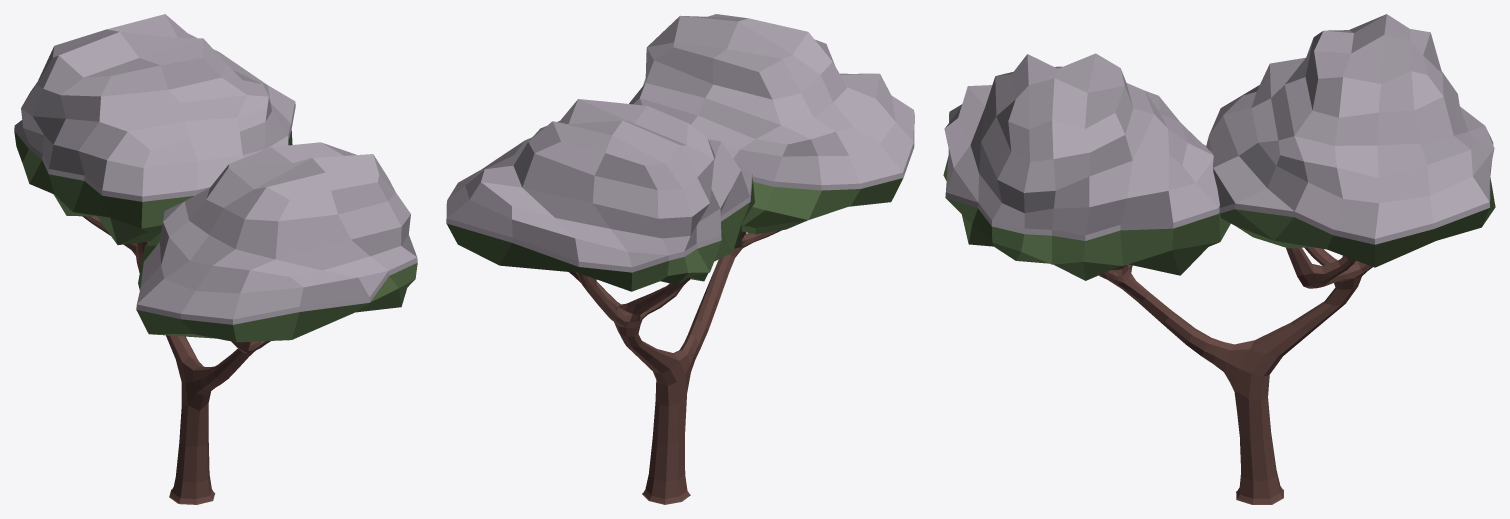
The model's file is CommonTree_Snow_1.gltf.
3 renders of one model, left to right at view 1: azimuth 30°, elevation 25°; view 2: azimuth 150°, elevation 25°; view 3: azimuth 270°, elevation 25°, orthographic. The views are drawn at different scales.
Visible parts, largest first — view 1: CommonTree_Snow_1; view 2: CommonTree_Snow_1; view 3: CommonTree_Snow_1.
Boxes of the visible parts, x1=… form: CommonTree_Snow_1: x1=14, y1=14, x2=417, y2=504; CommonTree_Snow_1: x1=446, y1=14, x2=914, y2=504; CommonTree_Snow_1: x1=943, y1=14, x2=1495, y2=504.
Size of the model in its own units: 1.89 by 2.51 by 2.77.
